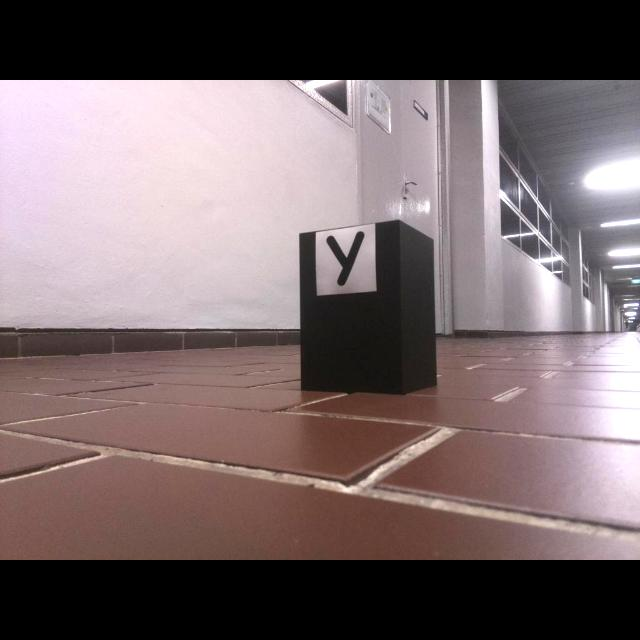Y: (327, 232, 364, 286)
